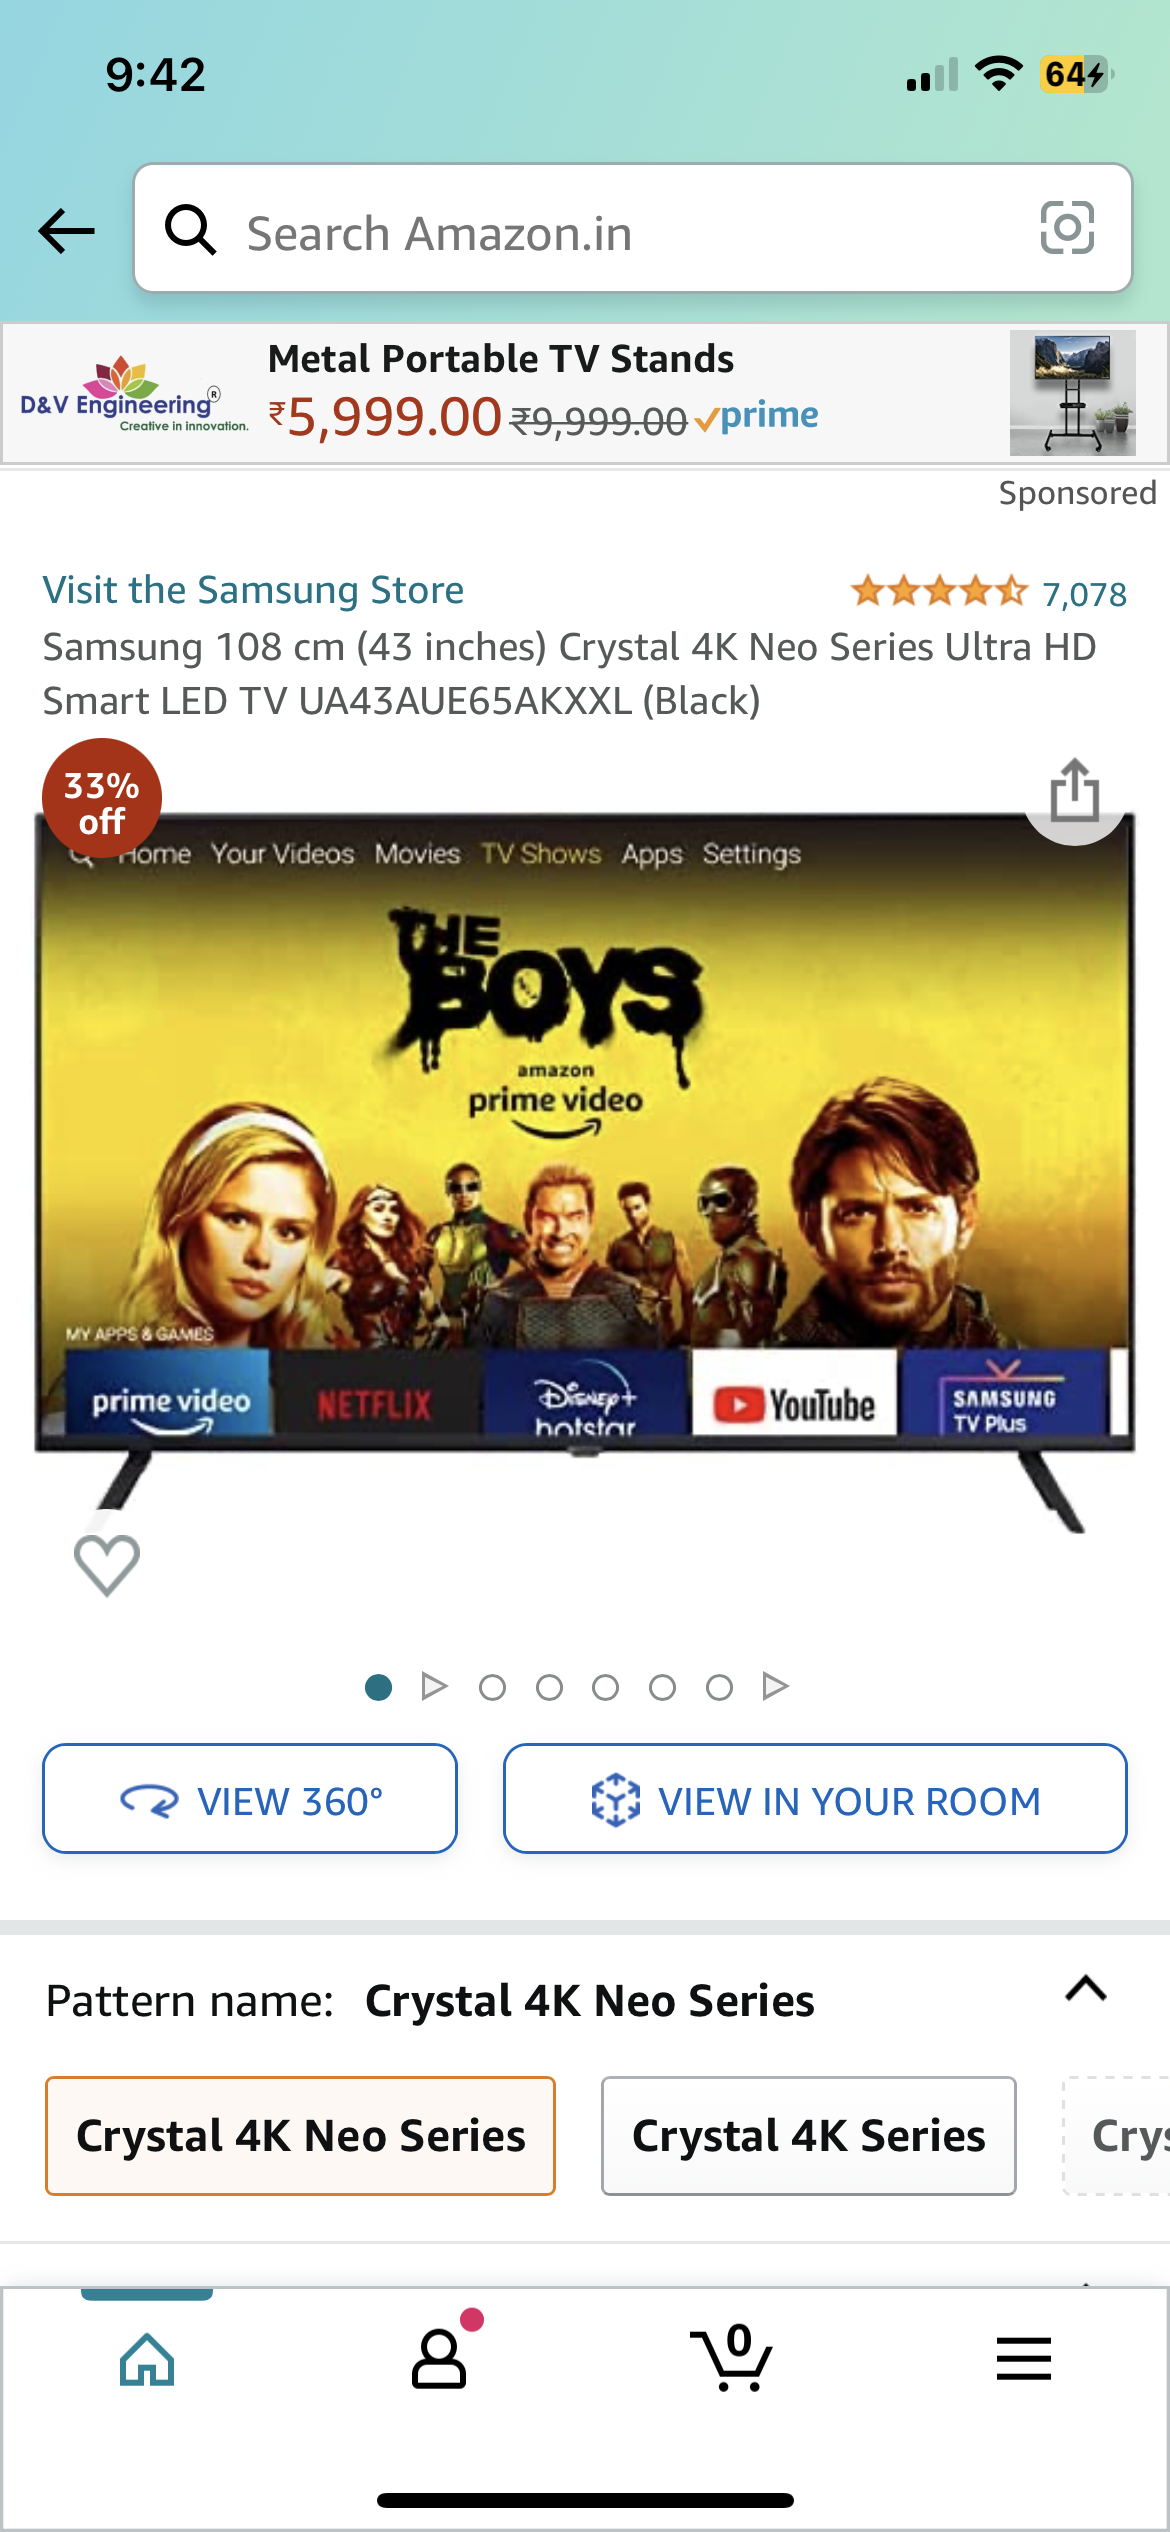LEDTV: (29, 807, 1139, 1524)
